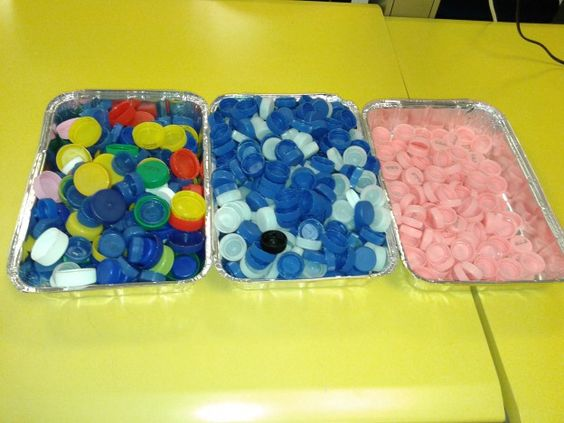Metal: (20, 85, 210, 290), (201, 85, 390, 275), (369, 106, 556, 285)
